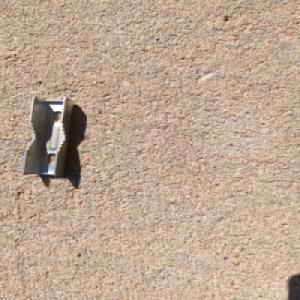ClampPart: (20, 95, 78, 179)
